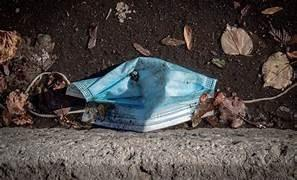Mask: (67, 57, 216, 131)
